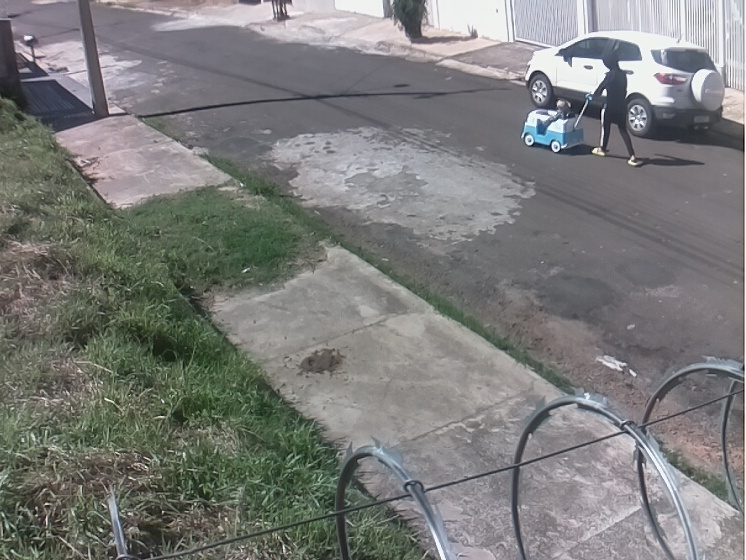person: (591, 51, 639, 166)
